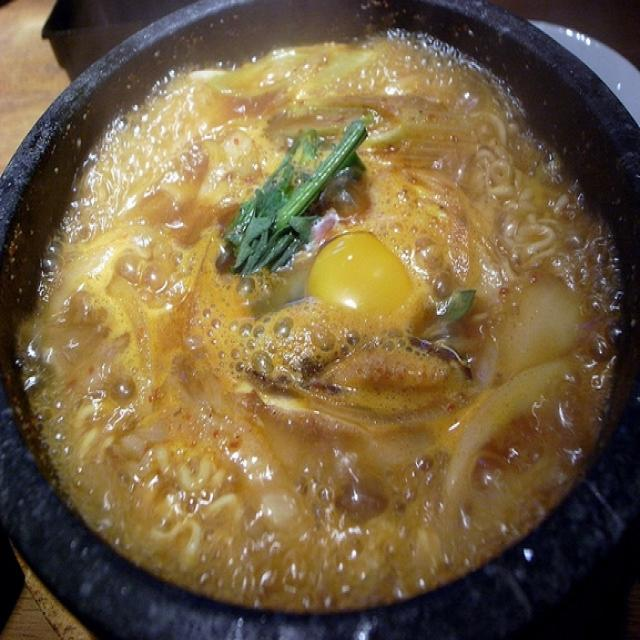汤锅炖物: (18, 31, 618, 610)
